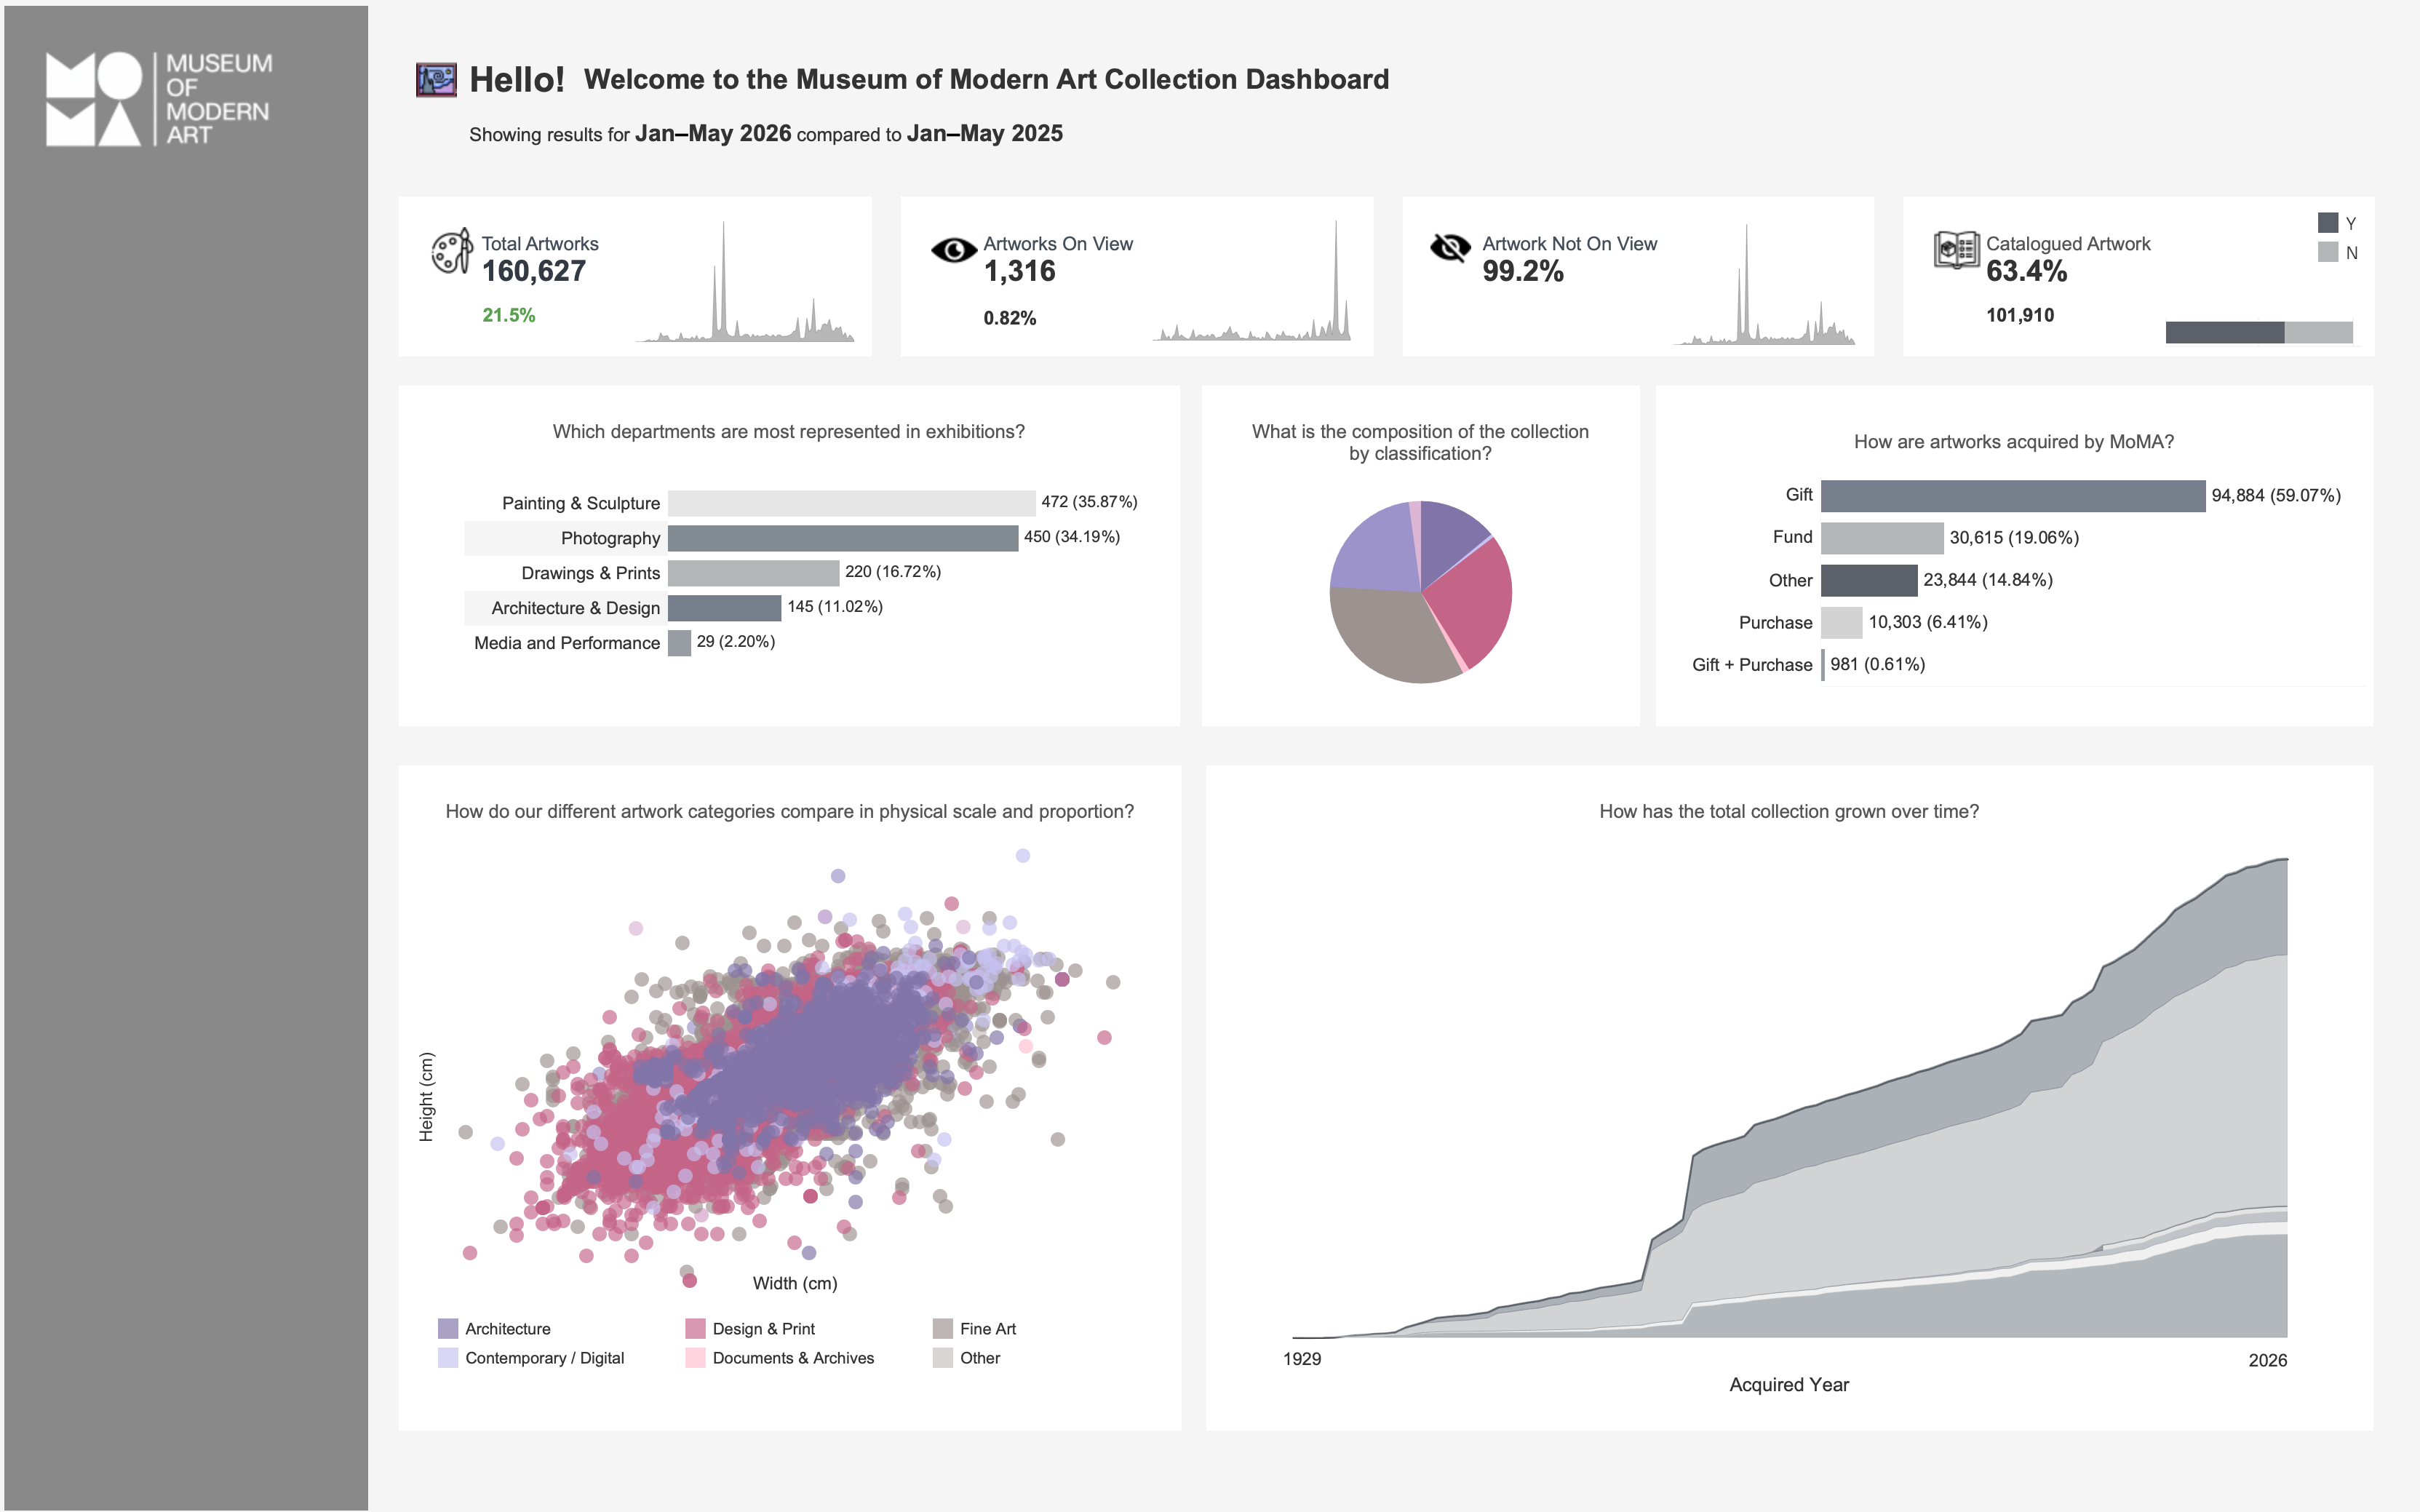

What the dashboard file says about the page in this screenshot:
{"tool":"tableau","page":{"name":"Dashboard 1","canvas":[1650,1000],"ordinal":0},"visuals":[{"type":"image","param":"/Users/selam/Downloads/ChatGPT Image Apr 22, 2026, 05_23_04 PM.png","box":[20,25,243,80]},{"type":"image","param":"/Users/selam/Downloads/starry-night.png","box":[281,31,32,40]},{"type":"text","box":[313,31,90,40]},{"type":"text","box":[396,31,741,40]},{"type":"text","box":[313,65,627,45]},{"type":"legend","title":"Stacked Catalogue","param":"[federated.0tvs7uu1hn88hb1h24can09vgmvw].[none:Cataloged:nk]","box":[1587,139,36,42]},{"type":"worksheet","title":"On View over time","mark":"Area","rows":["Calculation_0077374754357255"],"cols":["AcquiredYear"],"box":[782,143,150,87]},{"type":"worksheet","title":"Aquired artwork chart","mark":"Area","rows":["ObjectID"],"cols":["AcquiredYear"],"box":[434,144,150,87]},{"type":"worksheet","title":"Not On View over time","mark":"Area","rows":["Calculation_0033738637783050"],"cols":["AcquiredYear"],"box":[1141,146,137,87]},{"type":"legend","title":"Artworks by dimmension","param":"[federated.0tvs7uu1hn88hb1h24can09vgmvw].[cnt:ObjectID:qk]","box":[636,151,142.5,70]},{"type":"legend","title":"Creditline ","param":"[federated.0tvs7uu1hn88hb1h24can09vgmvw].[none:Calculation_0033739731423263:nk]","box":[778.5,151,142.5,70]},{"type":"image","param":"/Users/selam/Downloads/art.png","box":[292,152,32,68]},{"type":"worksheet","title":"Total Artworks","mark":"Automatic","box":[324,152,151,68]},{"type":"image","param":"/Users/selam/Downloads/eye (1).png","box":[637,152,32,68]},{"type":"worksheet","title":"Artworks On View","mark":"Automatic","box":[669,152,258,86]},{"type":"image","param":"/Users/selam/Downloads/hidden.png","box":[980,152,28,56]},{"type":"worksheet","title":"Artwork Not On View","mark":"Square","box":[1012,152,152,80]},{"type":"image","param":"/Users/selam/Downloads/catalog.png","box":[1326,152,32,68]},{"type":"worksheet","title":"Cataloged ","mark":"Automatic","box":[1358,152,150,68]},{"type":"worksheet","title":"Stacked Catalogue","mark":"Bar","rows":["Calculation_0033738624163847"],"box":[1485,214,135,25]},{"type":"text","box":[291,281,497,23]},{"type":"text","box":[843,281,261,52]},{"type":"text","box":[1155,281,453,38]},{"type":"worksheet","title":"Creditline ","mark":"Bar","rows":["Calculation_0033739731423263"],"cols":["ObjectID"],"box":[1152,322,471,146]},{"type":"worksheet","title":"OnView by Department","mark":"Automatic","rows":["Department"],"cols":["Calculation_0077374754357255"],"box":[316,330,480,128]},{"type":"worksheet","title":"Classification by object","mark":"Pie","box":[843,333,261,140]},{"type":"text","box":[291,542,498,23]},{"type":"text","box":[846,542,762,23]},{"type":"worksheet","title":"Artworks by dimmension","mark":"Circle","rows":["Height (cm)"],"cols":["Width (cm)"],"box":[291,565,498,330]},{"type":"worksheet","title":"Acquisition trend","mark":"Area","rows":["ObjectID","ObjectID"],"cols":["AcquiredYear"],"box":[846,565,762,371]},{"type":"text","box":[283,703,108,96]},{"type":"text","box":[512,863,108,30]},{"type":"legend","title":"Artworks by dimmension","param":"[federated.0tvs7uu1hn88hb1h24can09vgmvw].[none:Calculation_0033739333459991:nk]","box":[291,895,498,64]},{"type":"text","box":[876,911,40,38]},{"type":"text","box":[1540,912,52,38]},{"type":"text","box":[846,936,762,23]}]}

Visuals, with their boxes in screenshot pixels (x1, y1, x2, y2), scaled from the page's 1650x1000 canvas onto the 2420x1512 screenshot:
image: {"left": 29, "top": 38, "right": 386, "bottom": 159}
image: {"left": 412, "top": 47, "right": 459, "bottom": 108}
text: {"left": 459, "top": 47, "right": 591, "bottom": 108}
text: {"left": 581, "top": 47, "right": 1668, "bottom": 108}
text: {"left": 459, "top": 98, "right": 1379, "bottom": 167}
"Stacked Catalogue" legend: {"left": 2328, "top": 210, "right": 2381, "bottom": 274}
"On View over time" worksheet (Area marks): {"left": 1147, "top": 216, "right": 1367, "bottom": 348}
"Aquired artwork chart" worksheet (Area marks): {"left": 637, "top": 218, "right": 856, "bottom": 349}
"Not On View over time" worksheet (Area marks): {"left": 1673, "top": 220, "right": 1874, "bottom": 352}
"Artworks by dimmension" legend: {"left": 933, "top": 228, "right": 1142, "bottom": 334}
"Creditline " legend: {"left": 1142, "top": 228, "right": 1351, "bottom": 334}
image: {"left": 429, "top": 230, "right": 475, "bottom": 333}
"Total Artworks" worksheet: {"left": 475, "top": 230, "right": 696, "bottom": 333}
image: {"left": 934, "top": 230, "right": 982, "bottom": 333}
"Artworks On View" worksheet: {"left": 982, "top": 230, "right": 1360, "bottom": 360}
image: {"left": 1437, "top": 230, "right": 1478, "bottom": 314}
"Artwork Not On View" worksheet (Square marks): {"left": 1484, "top": 230, "right": 1707, "bottom": 351}
image: {"left": 1945, "top": 230, "right": 1991, "bottom": 333}
"Cataloged " worksheet: {"left": 1991, "top": 230, "right": 2212, "bottom": 333}
"Stacked Catalogue" worksheet (Bar marks): {"left": 2178, "top": 324, "right": 2376, "bottom": 362}
text: {"left": 427, "top": 425, "right": 1155, "bottom": 460}
text: {"left": 1236, "top": 425, "right": 1619, "bottom": 504}
text: {"left": 1694, "top": 425, "right": 2358, "bottom": 482}
"Creditline " worksheet (Bar marks): {"left": 1689, "top": 487, "right": 2381, "bottom": 708}
"OnView by Department" worksheet: {"left": 463, "top": 499, "right": 1168, "bottom": 693}
"Classification by object" worksheet (Pie marks): {"left": 1236, "top": 504, "right": 1619, "bottom": 715}
text: {"left": 427, "top": 819, "right": 1157, "bottom": 854}
text: {"left": 1241, "top": 819, "right": 2358, "bottom": 854}
"Artworks by dimmension" worksheet (Circle marks): {"left": 427, "top": 854, "right": 1157, "bottom": 1353}
"Acquisition trend" worksheet (Area marks): {"left": 1241, "top": 854, "right": 2358, "bottom": 1415}
text: {"left": 415, "top": 1063, "right": 573, "bottom": 1208}
text: {"left": 751, "top": 1305, "right": 910, "bottom": 1350}
"Artworks by dimmension" legend: {"left": 427, "top": 1353, "right": 1157, "bottom": 1450}
text: {"left": 1285, "top": 1377, "right": 1343, "bottom": 1435}
text: {"left": 2258, "top": 1379, "right": 2335, "bottom": 1436}
text: {"left": 1241, "top": 1415, "right": 2358, "bottom": 1450}
